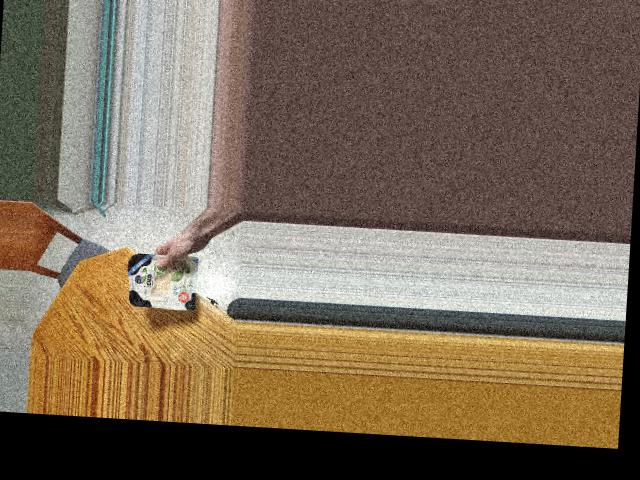cheese: (125, 248, 203, 310)
